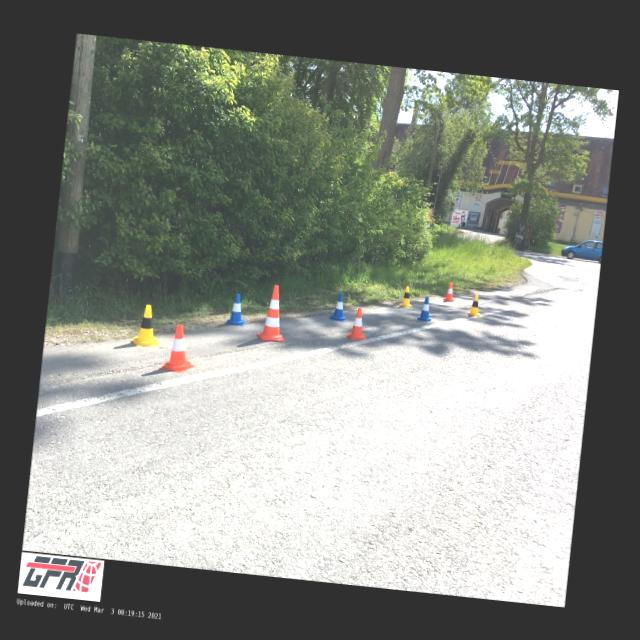blue_cone: (224, 292, 248, 326), (329, 292, 348, 322), (415, 296, 434, 322)
large_orange_cone: (256, 283, 288, 341)
orange_cone: (159, 322, 198, 373), (345, 307, 369, 341), (442, 281, 456, 302)
yellow_cone: (130, 302, 163, 348), (466, 292, 482, 316), (398, 286, 414, 308)
